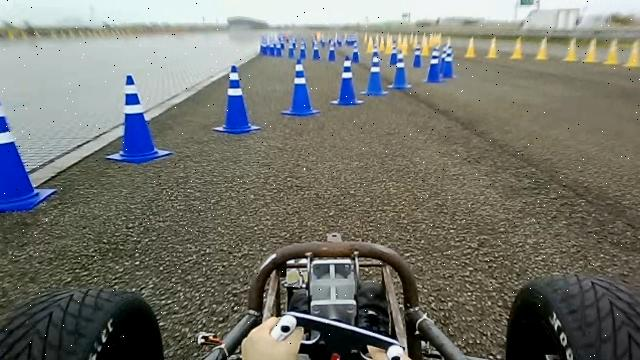blue cone: (0, 97, 57, 212), (105, 74, 172, 164), (211, 64, 262, 134), (280, 58, 320, 116), (330, 55, 364, 105), (361, 50, 388, 96), (387, 50, 411, 89), (424, 46, 446, 82), (442, 46, 456, 78), (412, 44, 422, 68)
yellow cone: (623, 39, 640, 67), (582, 37, 600, 63), (603, 38, 620, 65), (562, 37, 578, 62), (509, 36, 524, 60), (485, 36, 498, 58), (536, 37, 548, 60), (464, 36, 476, 58)
